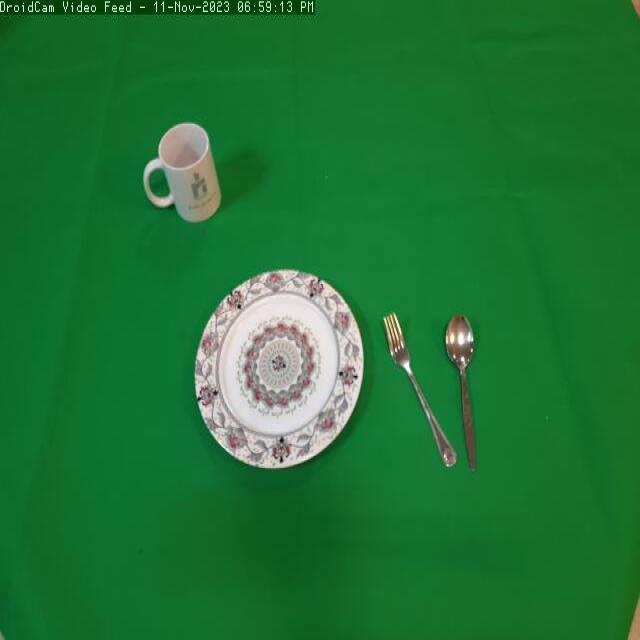cup: (138, 113, 227, 241)
fork: (379, 289, 468, 478)
plate: (186, 258, 372, 481)
spoon: (441, 302, 495, 478)
